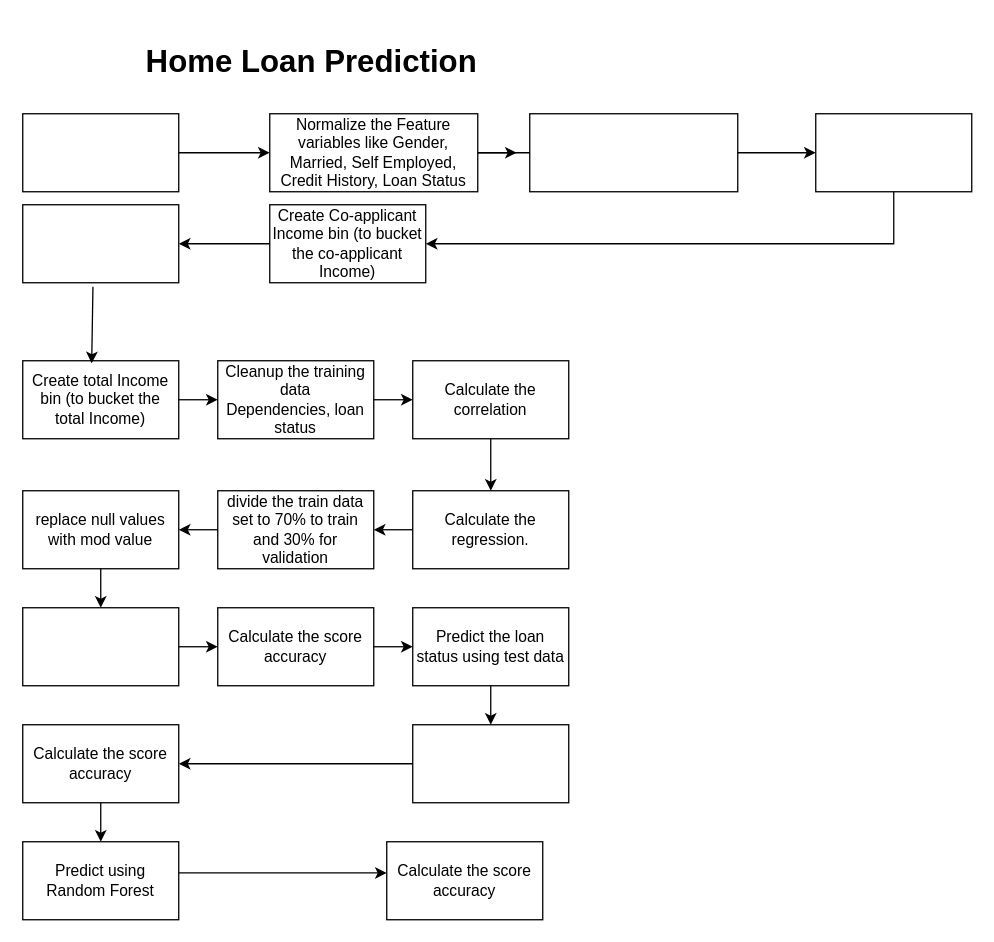
The diagram is 994 pixels wide and 942 high, and some of its shapes have lost their labels. Here are the shapes that lost their labels. From the top down, the centre of each, then its label:
At (100,152): "Load Train and Test data".
At (633,152): "Normalize the Ordinal variables like Dependents, Education, Property Area".
At (893,152): "Create Income bin (to bucket the applicant Income)".
At (100,243): "Calculate total income = applicant income+co-applicant income".
At (100,646): "Predict the loan status using train data".
At (490,763): "Predict using Logistics regression".
